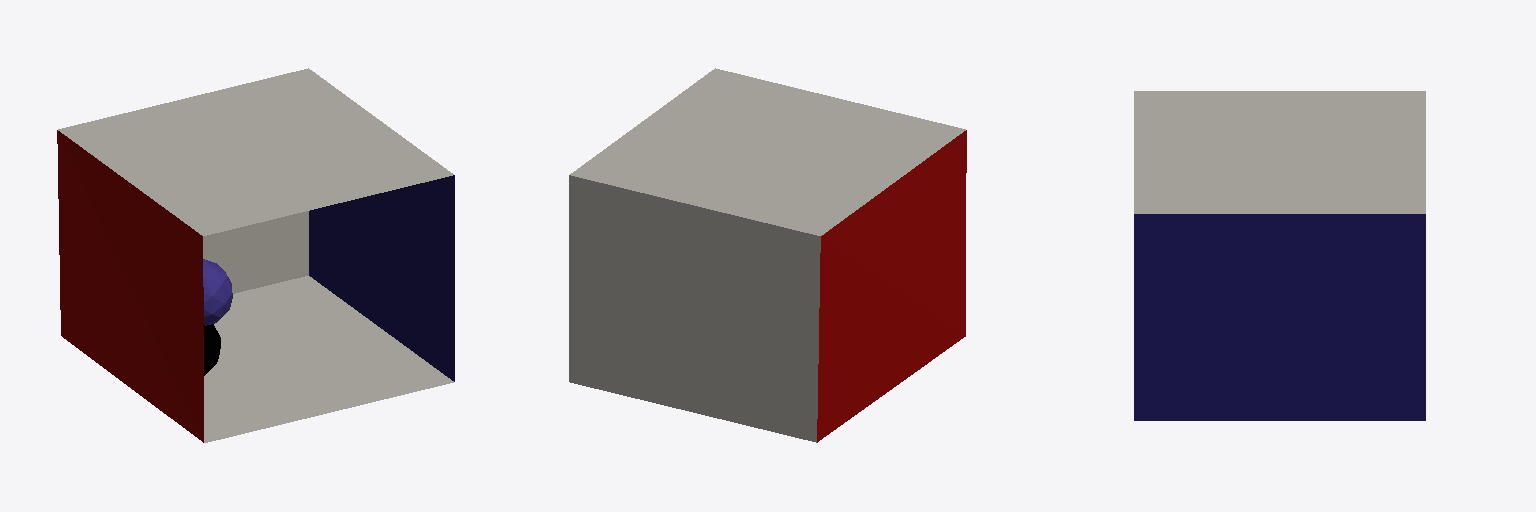
File: CornellBox-Sphere-176.obj
3 renders of one model, left to right at view 1: azimuth 30°, elevation 25°; view 2: azimuth 150°, elevation 25°; view 3: azimuth 270°, elevation 25°, orthographic.
Parts seen in each view (by area): view 1: ceiling, leftWall, floor, rightWall, backWall, leftSphere, rightSphere; view 2: backWall, ceiling, leftWall; view 3: rightWall, ceiling.
Boxes of the visible parts, box(x1,y1,x2,y2) form: ceiling: box(58, 68, 453, 235); leftWall: box(57, 130, 203, 442); floor: box(204, 276, 453, 442); rightWall: box(309, 175, 454, 381); backWall: box(203, 211, 308, 293); leftSphere: box(203, 259, 232, 325); rightSphere: box(204, 324, 220, 375); backWall: box(569, 175, 820, 442); ceiling: box(570, 68, 965, 235); leftWall: box(817, 130, 966, 442); rightWall: box(1134, 214, 1425, 420); ceiling: box(1134, 91, 1425, 213).
Size of the model in its own units: 2.02 by 1.59 by 2.03.